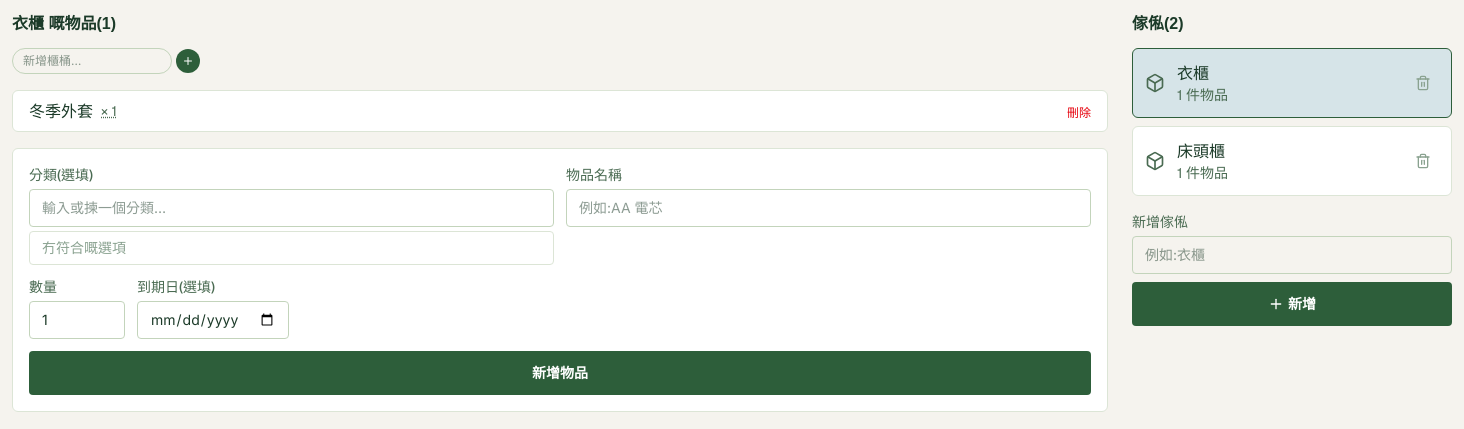
RoomWorkspace › switches the shown items when another furniture piece is selected
Click the button with aria-label "選擇床頭櫃" at [1201, 151], box [1145, 139, 1407, 183]
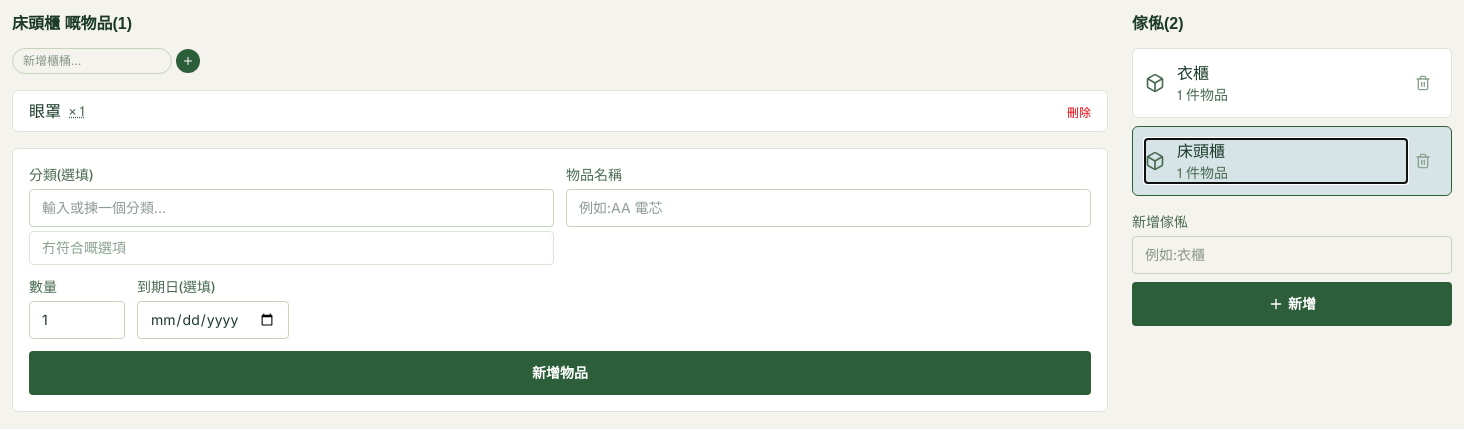
Result: the text "眼罩" is shown at [29, 99, 61, 123]
Result: the text "冬季外套" is gone
